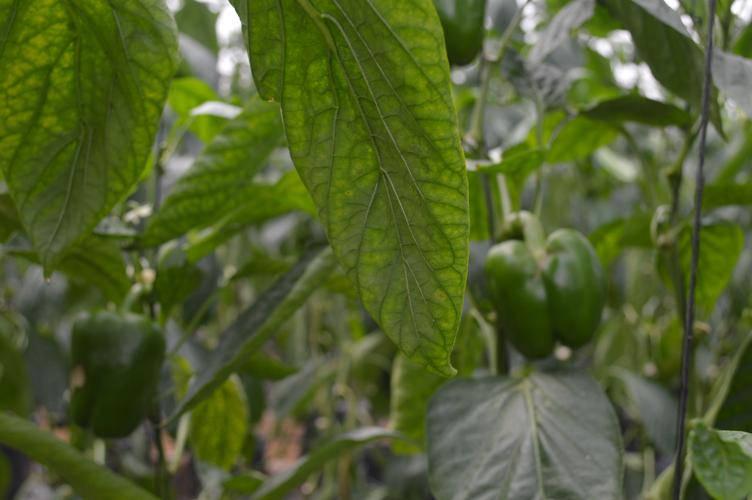BellPepper: (487, 232, 601, 361), (66, 312, 167, 441)
